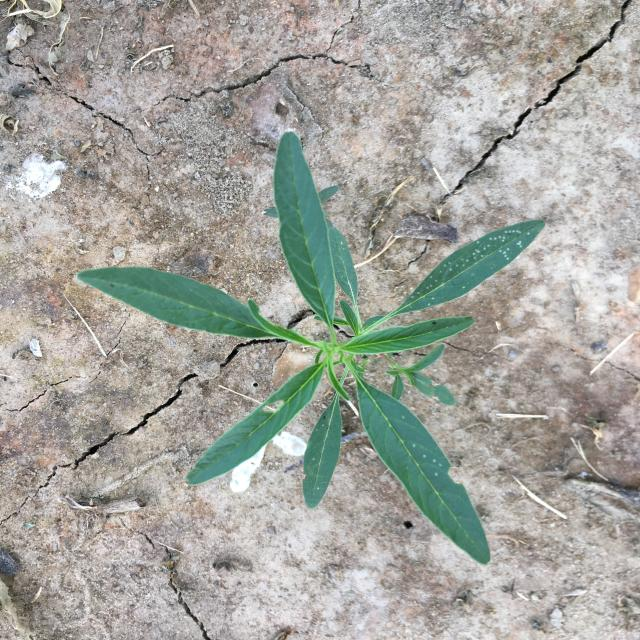Waterhemp: (77, 131, 545, 565)
